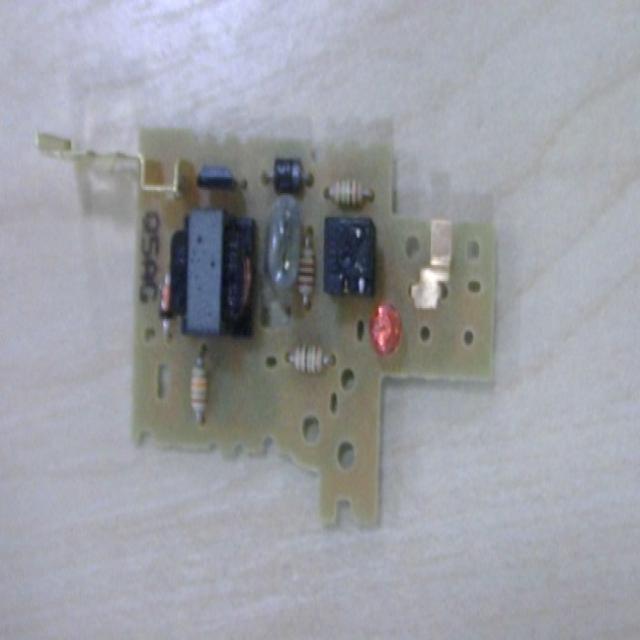019: (324, 216, 377, 300)
223: (266, 194, 299, 294)
DIODE: (260, 153, 317, 198)
LED: (370, 302, 406, 360)
R1: (284, 336, 339, 377)
R2: (298, 219, 318, 311)
R3: (323, 178, 377, 214)
R4: (187, 342, 213, 432)
TCE: (169, 207, 258, 344)
TRANSISTOR: (193, 160, 250, 192)
